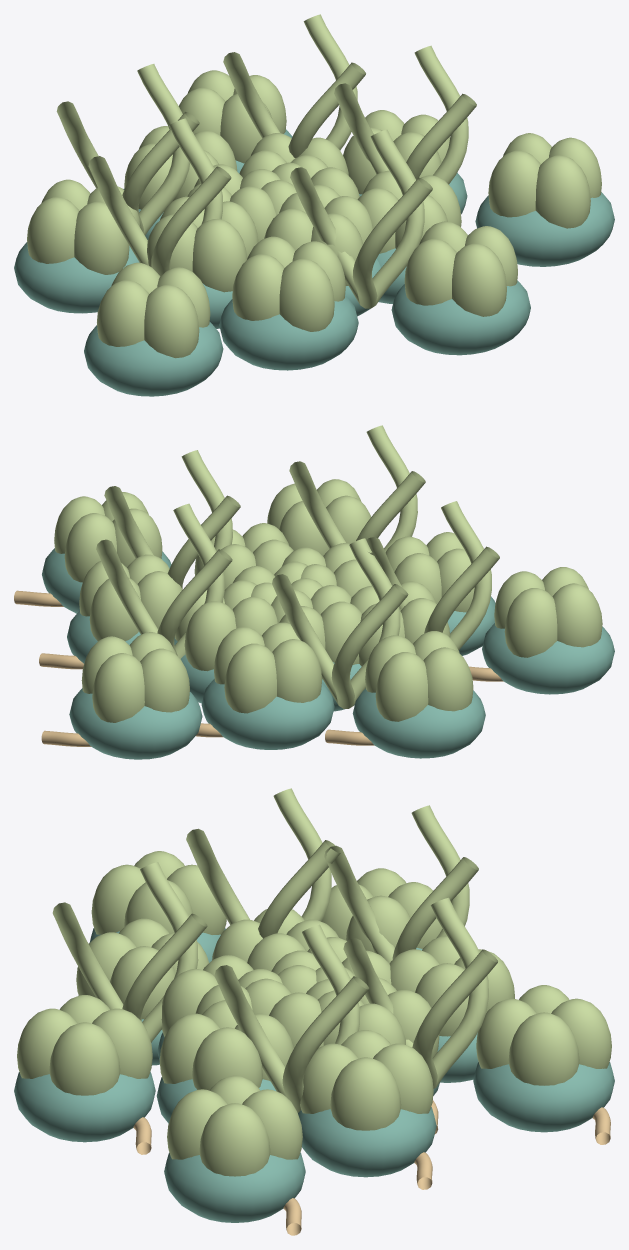
The model's file is bio_oxygen_reef_24_near.glb.
3 views of the same model, one above another, from view 1: azimuth 30°, elevation 25°; view 2: azimuth 150°, elevation 25°; view 3: azimuth 270°, elevation 25° (orthographic). The views are drawn at different scales.
Parts seen in each view (by area): view 1: Lobed gas sac.040, Lobed gas sac.028, Lobed gas sac.048, Lobed gas sac.052, Spiral filament.006, Lobed gas sac.036, Spiral filament.012, Photosynthetic cushion.007, Photosynthetic cushion.012, Photosynthetic cushion.010, Spiral filament.003, Spiral filament (+14 smaller); view 2: Lobed gas sac.044, Lobed gas sac.036, Lobed gas sac.048, Lobed gas sac.024, Spiral filament.003, Spiral filament.009, Photosynthetic cushion.011, Photosynthetic cushion.012, Photosynthetic cushion.006, Photosynthetic cushion.009, Lobed gas sac.032, Lobed gas sac.052 (+19 smaller); view 3: Lobed gas sac.052, Lobed gas sac.040, Lobed gas sac.044, Lobed gas sac.032, Spiral filament.009, Spiral filament, Lobed gas sac.020, Spiral filament.006, Spiral filament.012, Photosynthetic cushion.010, Photosynthetic cushion.011, Photosynthetic cushion.013 (+13 smaller).
Part boxes in pixels (left/top/right/bottom): Lobed gas sac.040: left=404, top=221, right=517, bottom=316; Lobed gas sac.028: left=232, top=236, right=345, bottom=331; Lobed gas sac.048: left=97, top=262, right=210, bottom=358; Lobed gas sac.052: left=488, top=133, right=601, bottom=228; Spiral filament.006: left=290, top=129, right=432, bottom=308; Lobed gas sac.036: left=27, top=179, right=140, bottom=274; Spiral filament.012: left=88, top=118, right=231, bottom=276; Photosynthetic cushion.007: left=219, top=295, right=358, bottom=370; Photosynthetic cushion.012: left=84, top=322, right=223, bottom=396; Photosynthetic cushion.010: left=391, top=280, right=530, bottom=355; Spiral filament.003: left=56, top=64, right=199, bottom=235; Spiral filament: left=334, top=45, right=476, bottom=184; Lobed gas sac.044: left=81, top=632, right=189, bottom=722; Lobed gas sac.036: left=365, top=631, right=473, bottom=721; Lobed gas sac.048: left=494, top=567, right=602, bottom=657; Lobed gas sac.024: left=214, top=622, right=322, bottom=713; Spiral filament.003: left=272, top=538, right=408, bottom=708; Spiral filament.009: left=96, top=503, right=232, bottom=658; Photosynthetic cushion.011: left=69, top=688, right=202, bottom=759; Photosynthetic cushion.012: left=482, top=623, right=614, bottom=694; Photosynthetic cushion.006: left=201, top=679, right=334, bottom=749; Photosynthetic cushion.009: left=352, top=688, right=485, bottom=758; Lobed gas sac.032: left=79, top=554, right=182, bottom=641; Lobed gas sac.052: left=54, top=492, right=162, bottom=582; Lobed gas sac.052: left=167, top=1075, right=302, bottom=1176; Lobed gas sac.040: left=17, top=995, right=152, bottom=1095; Lobed gas sac.044: left=476, top=985, right=611, bottom=1085; Lobed gas sac.032: left=300, top=1030, right=433, bottom=1130; Spiral filament.009: left=343, top=897, right=497, bottom=1088; Spiral filament: left=214, top=924, right=369, bottom=1112; Lobed gas sac.020: left=159, top=1000, right=293, bottom=1090; Spiral filament.006: left=52, top=862, right=207, bottom=1042; Spiral filament.012: left=186, top=788, right=340, bottom=938; Photosynthetic cushion.010: left=14, top=1072, right=155, bottom=1142; Photosynthetic cushion.011: left=473, top=1062, right=614, bottom=1132; Photosynthetic cushion.013: left=164, top=1152, right=305, bottom=1222.
Size of the model in its own units: 2.35 by 0.7514 by 2.03.
